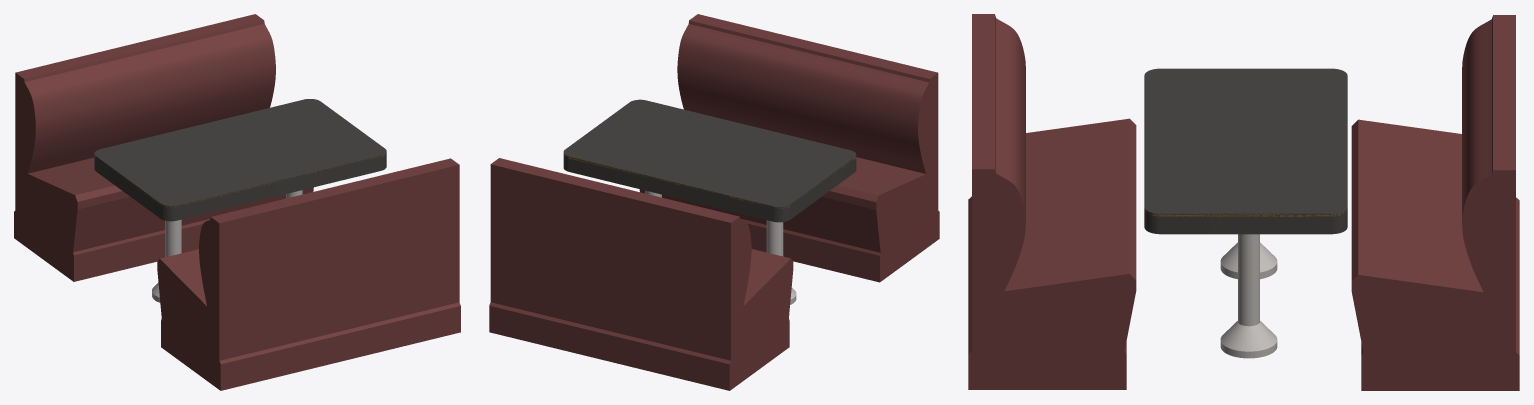
The model's file is diner_booth__c976b6f9406d.glb.
3 views of the same model, side by side, from view 1: azimuth 30°, elevation 25°; view 2: azimuth 150°, elevation 25°; view 3: azimuth 270°, elevation 25° (orthographic). The views are drawn at different scales.
Parts seen in each view (by area): view 1: bench, bench.001, rim, pedestal; view 2: bench.001, bench, rim, pedestal; view 3: bench.001, bench, rim, pedestal.001, pedestal.
Part boxes in pixels (x1,y1,x2,y2): bench: (157,158,460,390); bench.001: (14,14,313,281); rim: (94,99,386,221); pedestal: (152,219,181,302); bench.001: (489,158,793,390); bench: (639,14,939,282); rim: (563,99,856,222); pedestal: (766,220,796,304); bench.001: (1351,15,1519,390); bench: (968,14,1136,389); rim: (1144,68,1347,234); pedestal.001: (1220,234,1277,358); pedestal: (1220,242,1277,279).
Bounding box in the file's own units: 1.48 × 0.9731 × 2.2.
